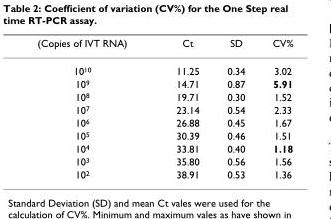table: (36, 36, 292, 179)
table column: (36, 36, 151, 179), (151, 36, 212, 179), (212, 36, 258, 179), (258, 36, 292, 179)
table column header: (36, 36, 292, 56)
table row: (36, 36, 292, 56), (36, 56, 292, 76), (36, 76, 292, 89), (36, 89, 292, 102), (36, 102, 292, 115), (36, 115, 292, 128), (36, 128, 292, 141), (36, 141, 292, 154), (36, 154, 292, 167), (36, 167, 292, 179)
